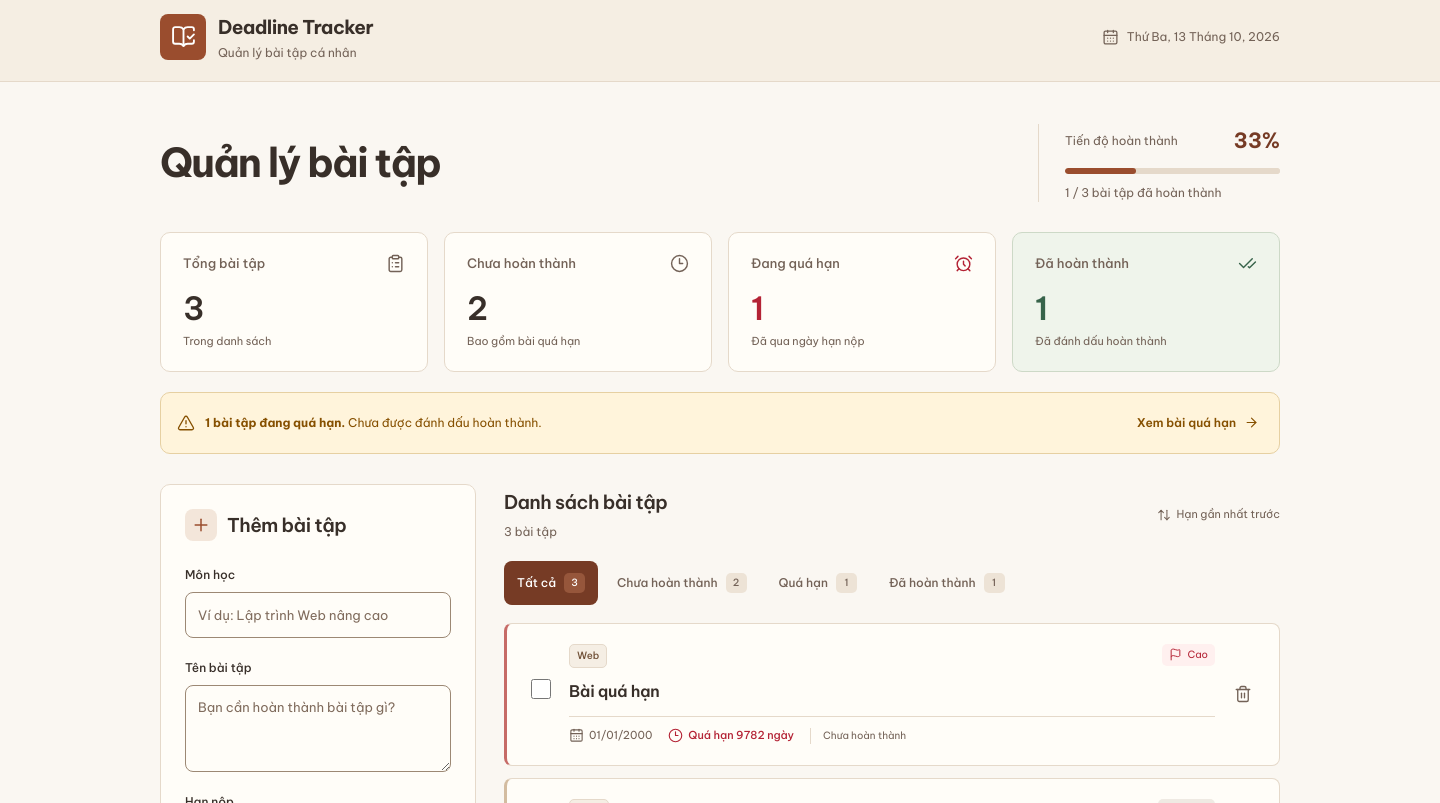
it: assignment interface › creates an assignment from the form and resets it
Step 1. Type "Lập trình" into the field labelled "Môn học" → (318, 615), box left=185, top=592, right=451, bottom=638
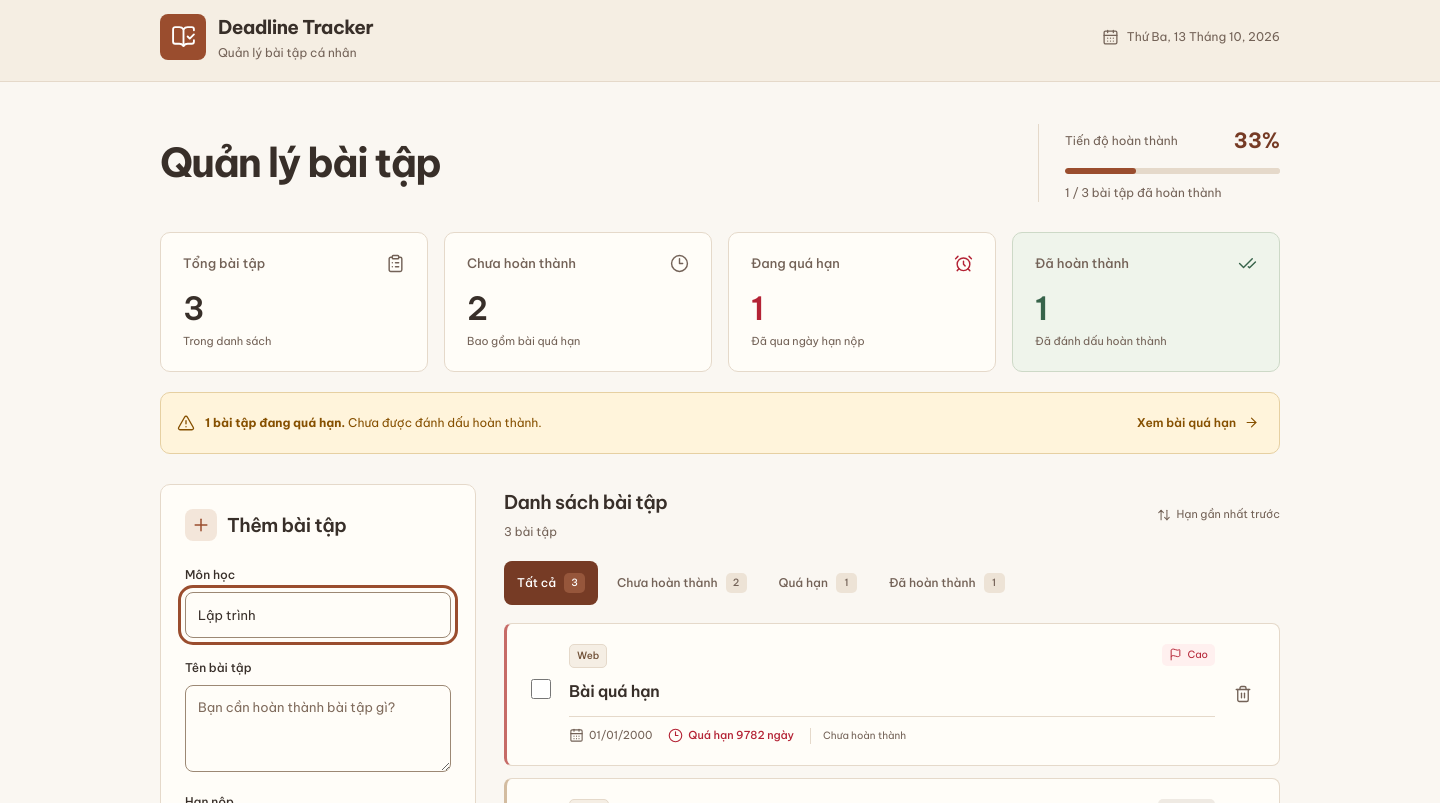
Step 2. Type "Bài cá nhân" into the text box labelled "Tên bài tập" → (318, 728), box left=185, top=685, right=451, bottom=772
(page scrolled)
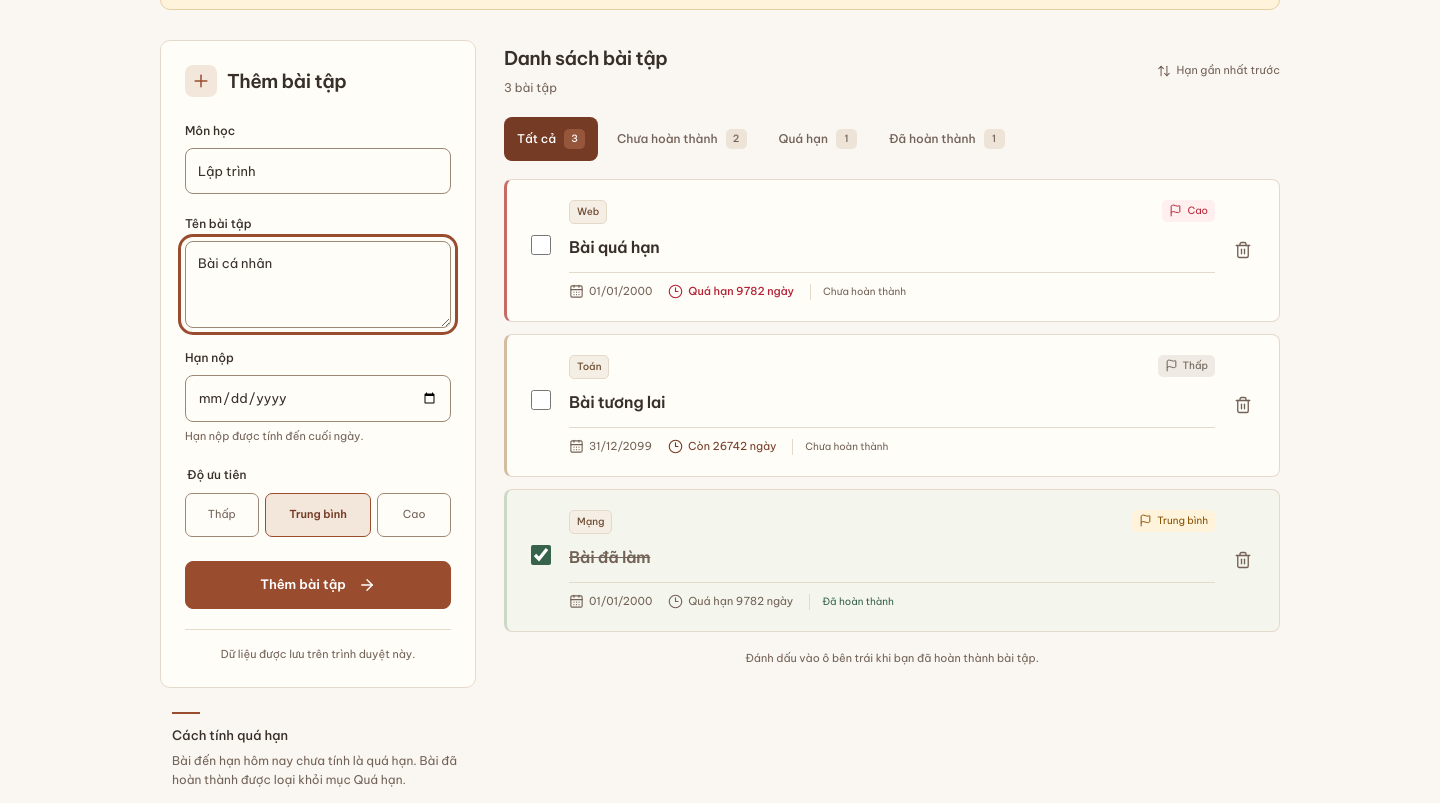
Step 3. Type "2026-12-20" into the date field labelled "Hạn nộp" → (318, 398), box left=185, top=375, right=451, bottom=422
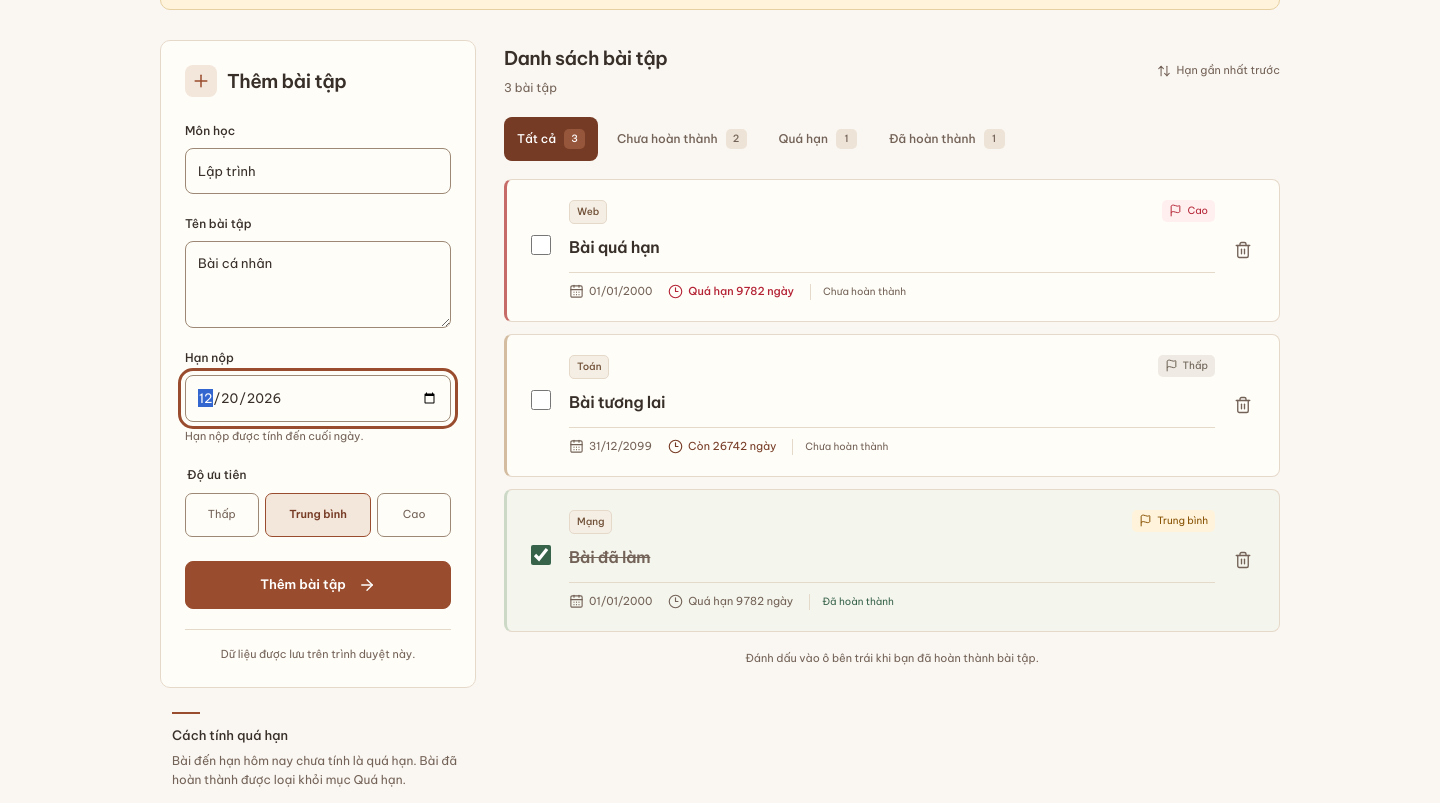
Step 4. Click the button "Thêm bài tập" → (318, 584), box left=185, top=560, right=451, bottom=608
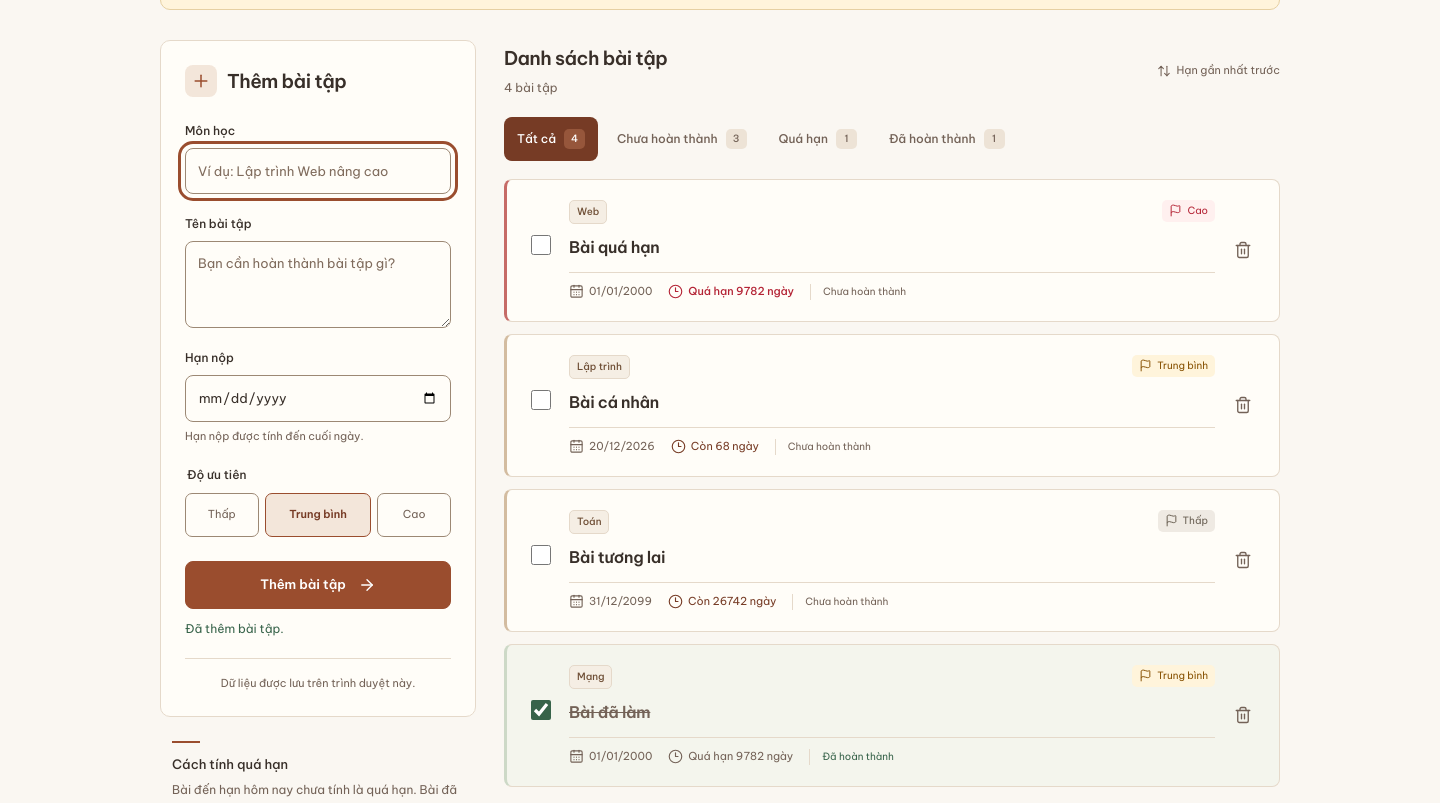
Expected: the heading "Bài cá nhân" is shown, left=569, top=392, right=659, bottom=412
Expected: the text box labelled "Tên bài tập" is empty, left=185, top=241, right=451, bottom=328
